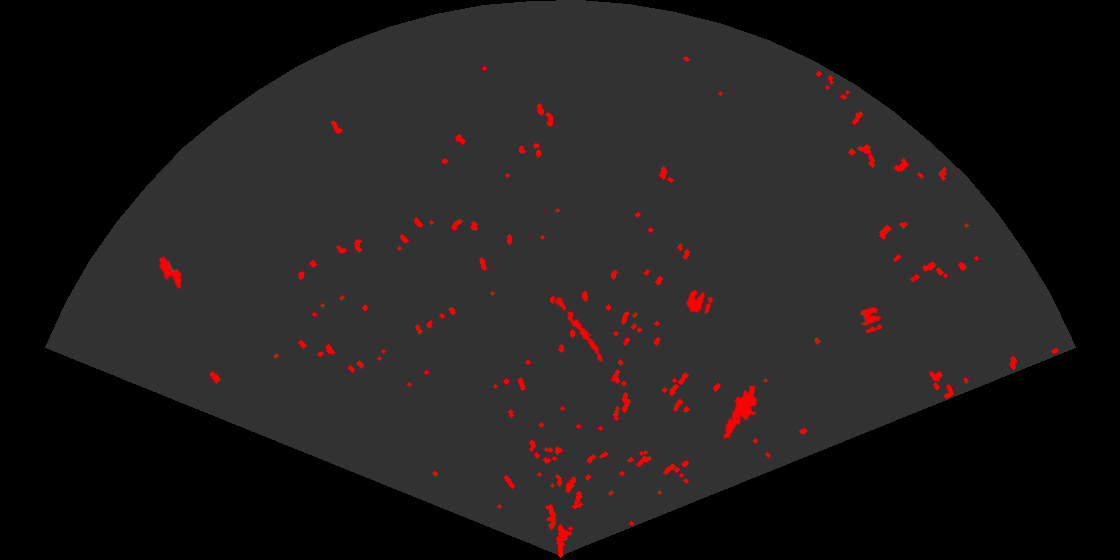AUV: (157, 255, 184, 291)
ball: (685, 288, 715, 316), (859, 305, 884, 335)
chain: (548, 287, 604, 364)
frogman: (722, 386, 759, 441)
